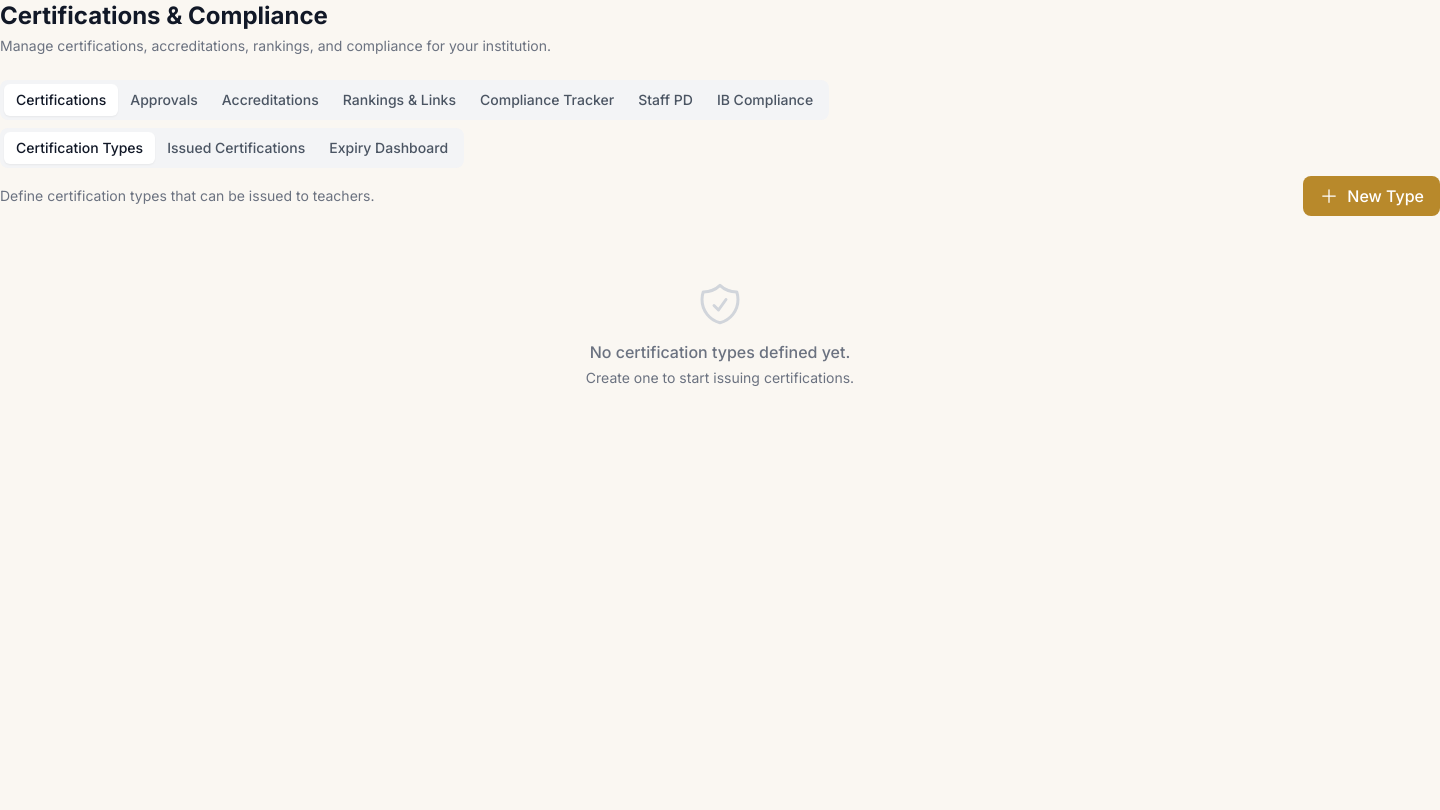
Scenario: CertificationsPage › clicking "New Type" opens Create Certification Type modal
The image size is (1440, 810).
Expected: the text "No certification types defined yet." is shown, [590,342,850,362]
Click the button "New Type" at (1372, 196), box [1303,176,1439,216]
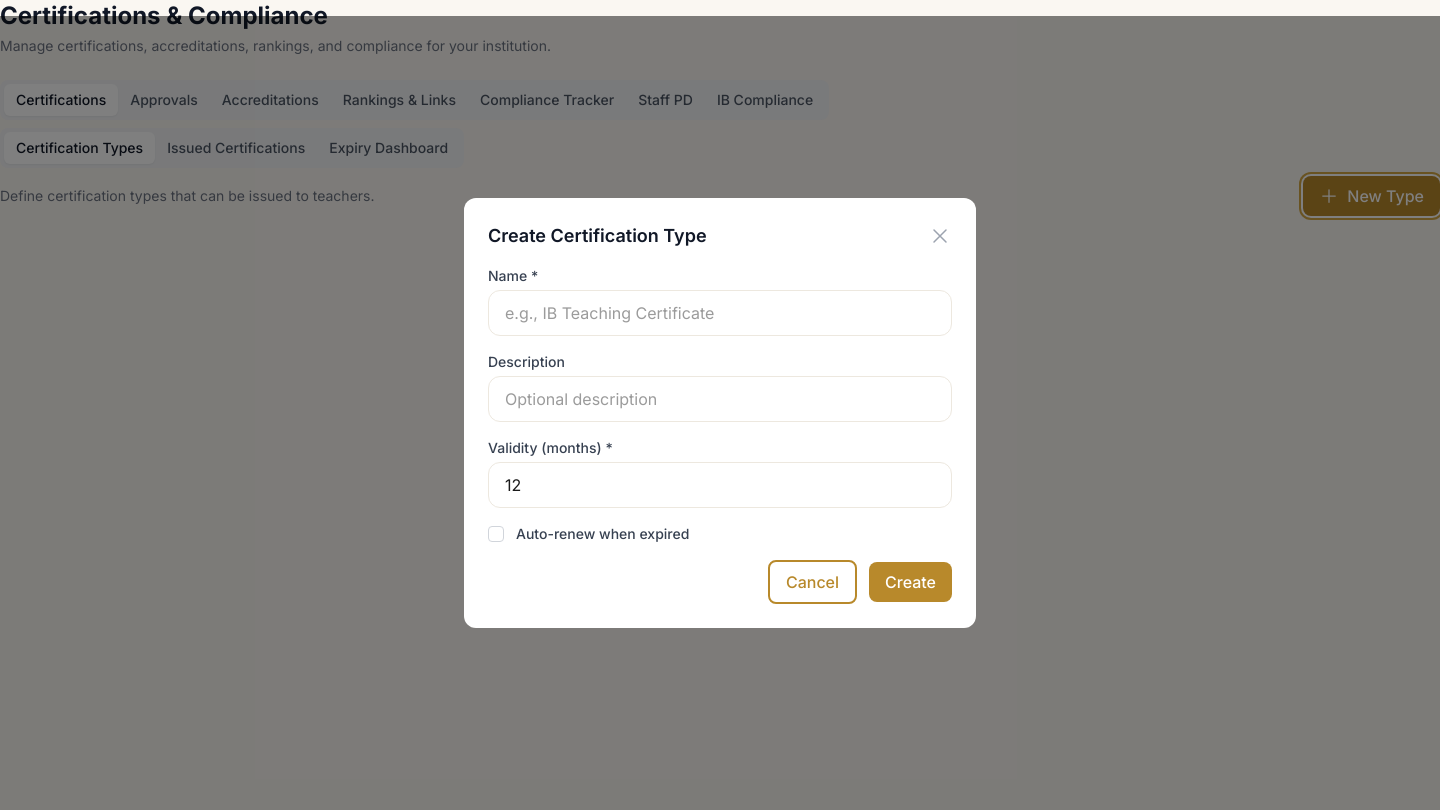
Now the heading "Create Certification Type" is shown, box [488,222,707,250]
